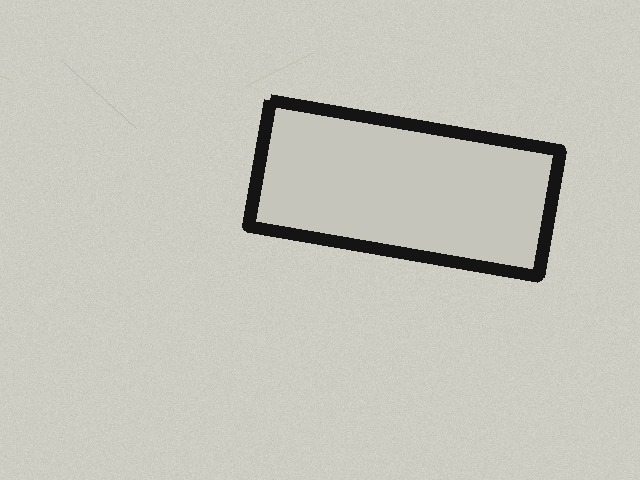parking_area: (248, 100, 560, 276)
